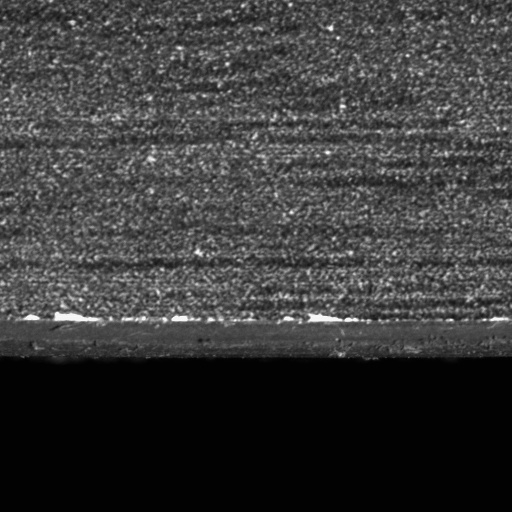huashang: (52, 311, 107, 323), (306, 312, 343, 322)
